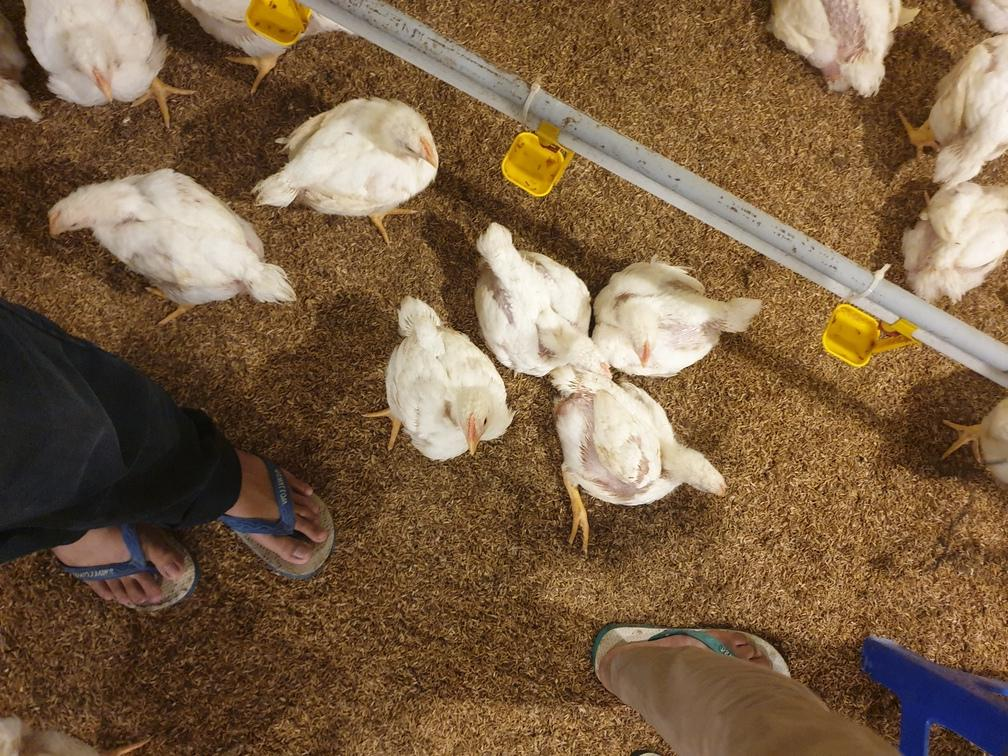Pollos: (47, 178, 282, 304), (555, 369, 732, 503), (468, 217, 614, 378), (261, 100, 434, 215), (23, 0, 191, 112), (390, 301, 507, 437), (594, 267, 759, 363), (901, 175, 1006, 300)
